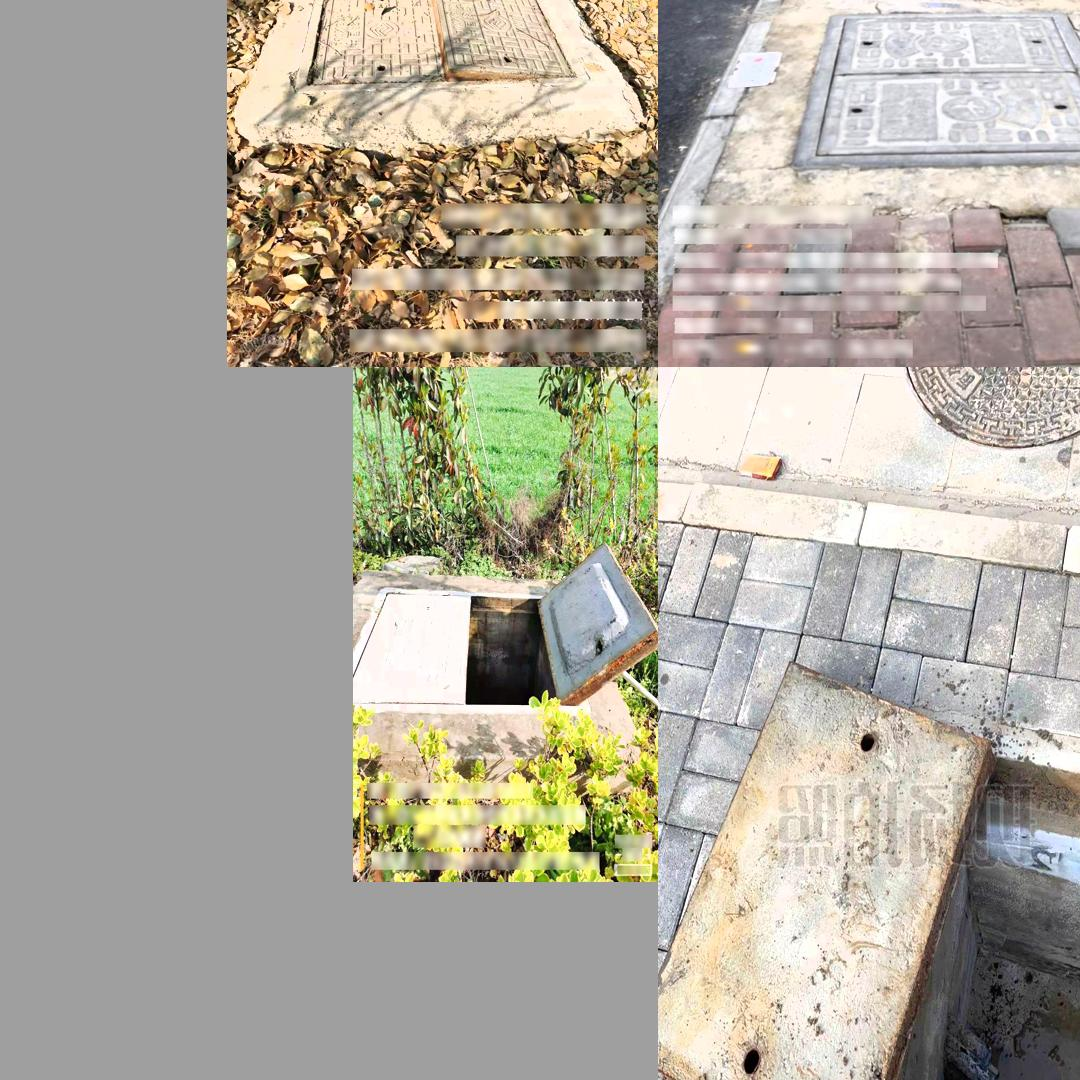good: (790, 13, 1080, 171)
uncovered: (658, 664, 1080, 1080), (355, 544, 658, 716), (294, 0, 588, 94)
